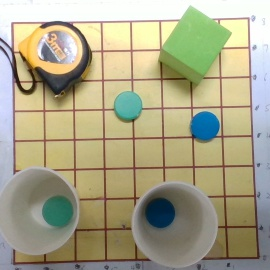blue: (189, 110, 221, 142)
cup_blue: (130, 174, 219, 270)
cup_green: (1, 165, 84, 253)
green: (113, 90, 143, 120)
